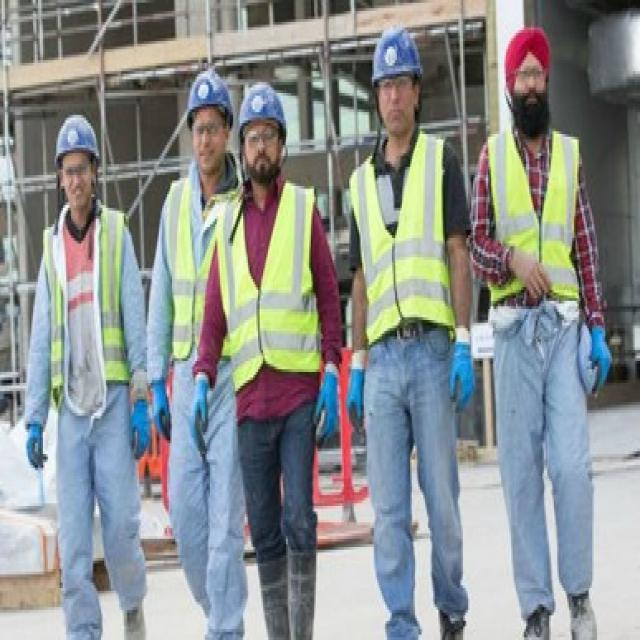Reflective-Jacket: (348, 134, 457, 347), (215, 180, 322, 388), (484, 126, 586, 306), (41, 208, 132, 394), (162, 172, 223, 372)
Safety-Helmet: (369, 19, 423, 85), (236, 77, 288, 131), (184, 63, 233, 118), (53, 107, 101, 161)
